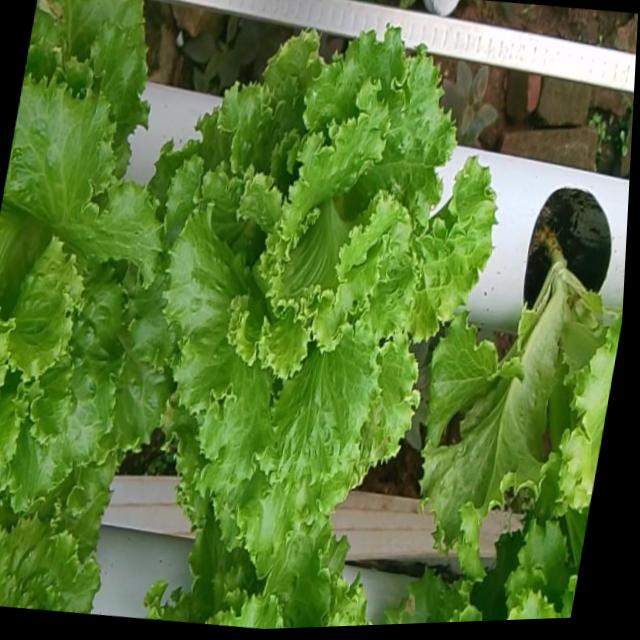Mature: (163, 13, 500, 547), (0, 59, 175, 506)
